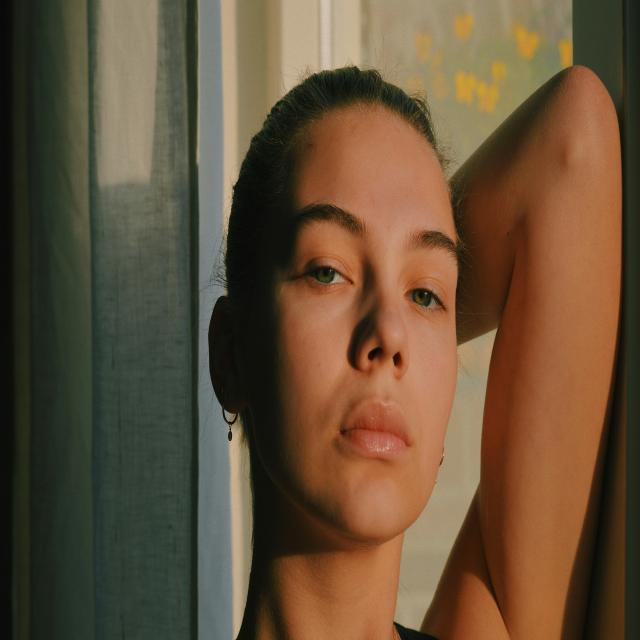piel: (206, 69, 623, 640)
